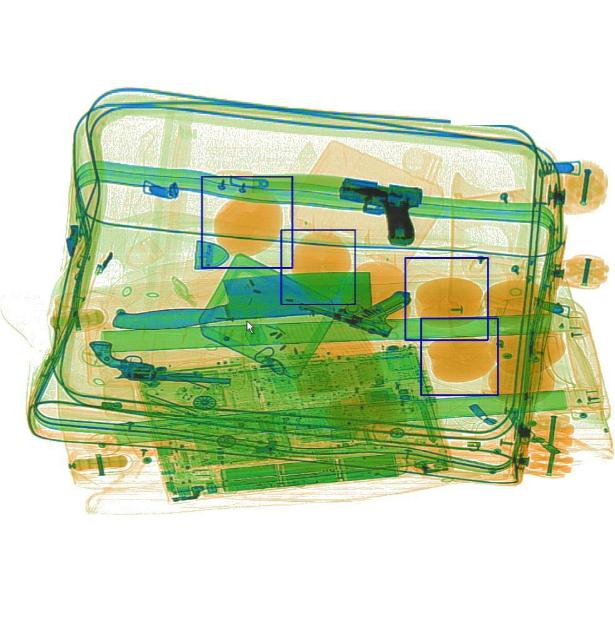Gun: (297, 259, 410, 341), (87, 340, 230, 384), (332, 178, 422, 246)
Knife: (109, 264, 372, 330)
